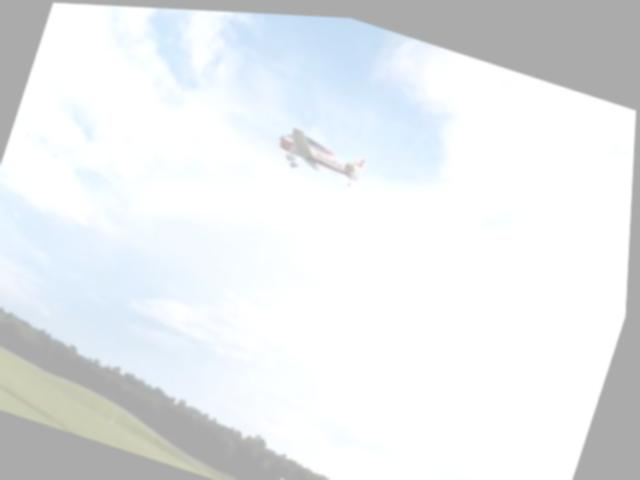uav: (261, 108, 384, 202)
